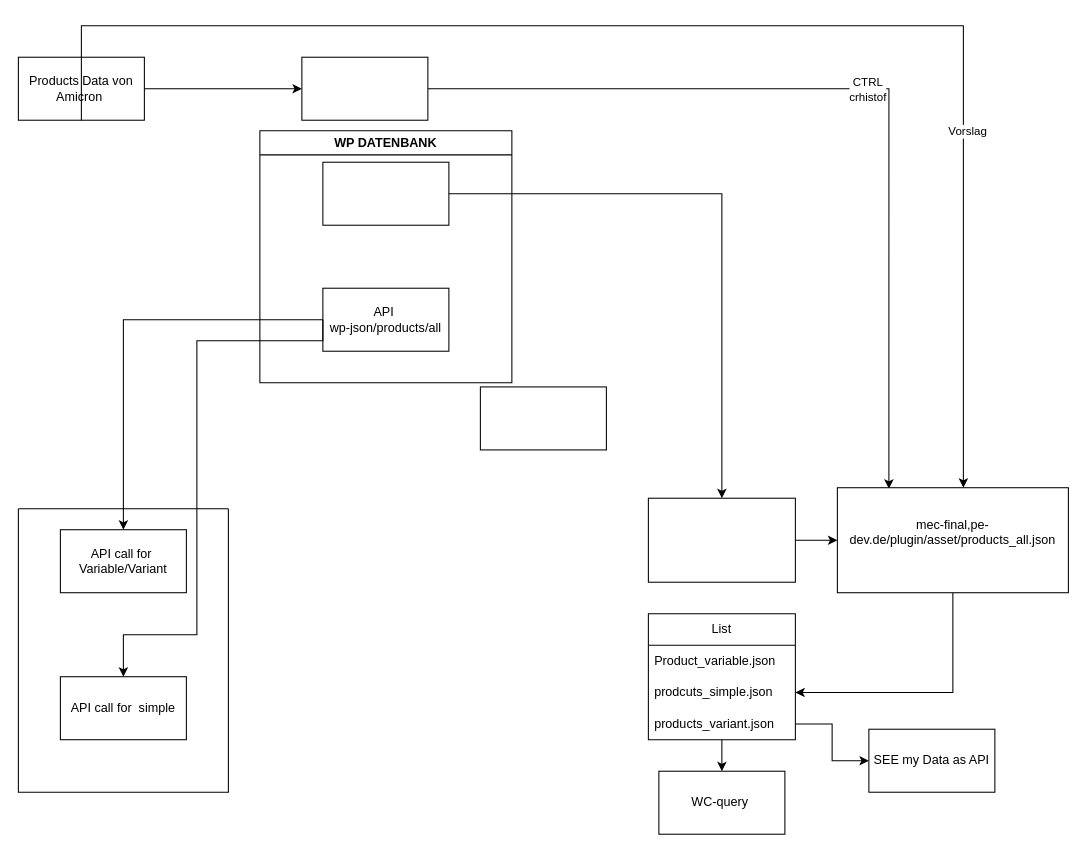
This 1087x853 diagram has some shape labels left out. The shapes that lost their labels are listed below. From the top down, each one's box as (x1, y1, x2, y2) in pixels, then its label:
(301, 56, 428, 120): mec.pe-dev.de
(322, 161, 449, 225): WC_products - SKU - Image
(479, 386, 606, 450): mec-final.pe-dev.de
(647, 497, 795, 582): API call to save products.json
